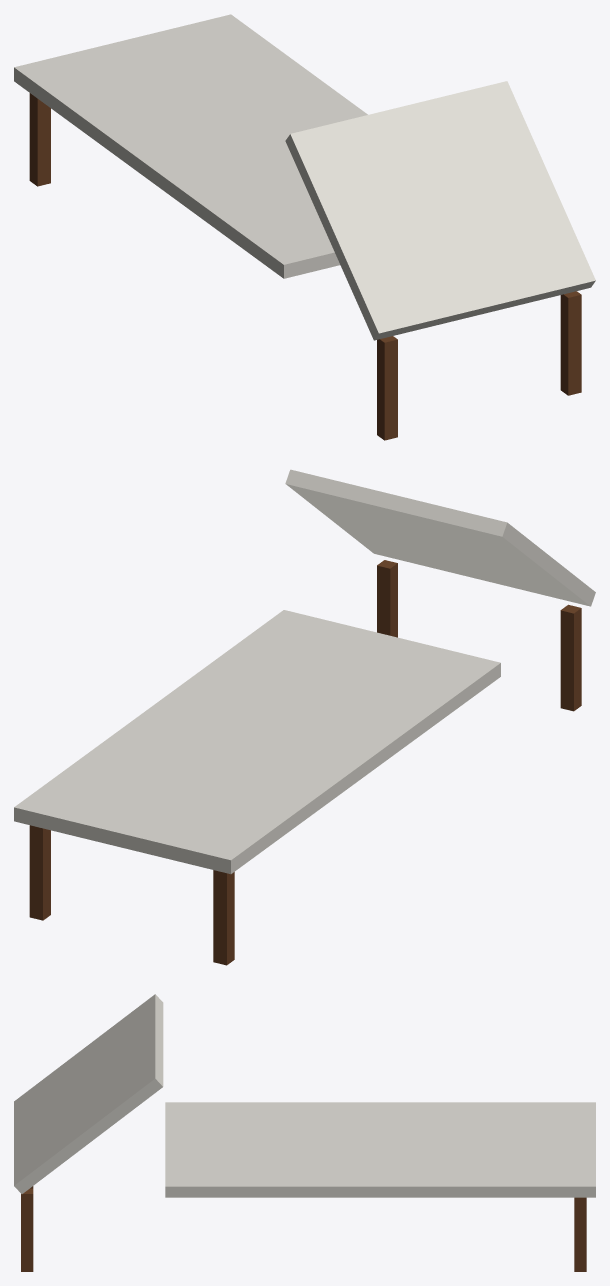
Rendered from home.garden.sun_lounger.glb.
3 renders of one model, top to bottom at view 1: azimuth 30°, elevation 25°; view 2: azimuth 150°, elevation 25°; view 3: azimuth 270°, elevation 25°, orthographic. The views are drawn at different scales.
Parts seen in each view (by area): view 1: main__fabric_white, main__hardwood; view 2: main__fabric_white, main__hardwood; view 3: main__fabric_white, main__hardwood.
Boxes of the visible parts, x1,y1,x2,y2 form: main__fabric_white: (14, 14, 595, 340); main__hardwood: (29, 93, 581, 440); main__fabric_white: (14, 469, 595, 874); main__hardwood: (29, 560, 581, 965); main__fabric_white: (14, 994, 595, 1197); main__hardwood: (21, 1186, 586, 1271).
Size of the model in its own units: 0.65 by 0.7082 by 1.89.
